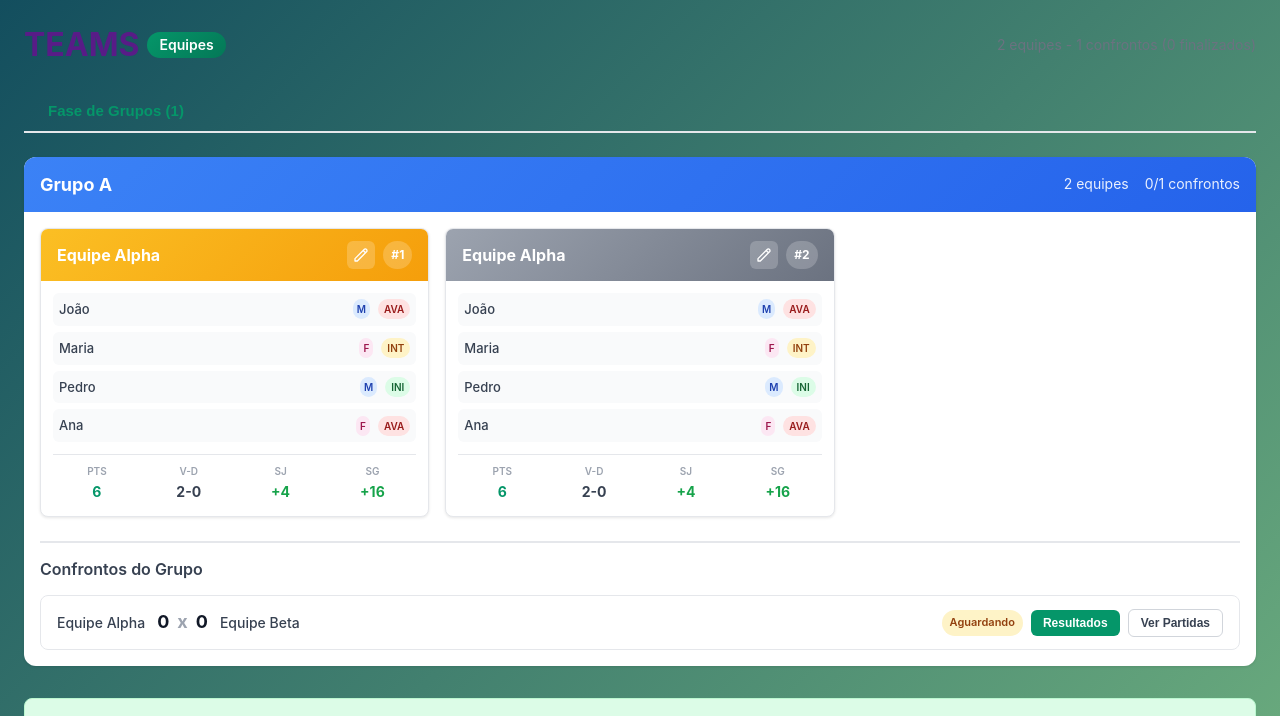
Test: ChavesTeams › definir jogadores › deve mostrar botão definir jogadores para partida sem duplas
Click the button "Ver Partidas" at (1175, 623), box [1128,609,1223,637]
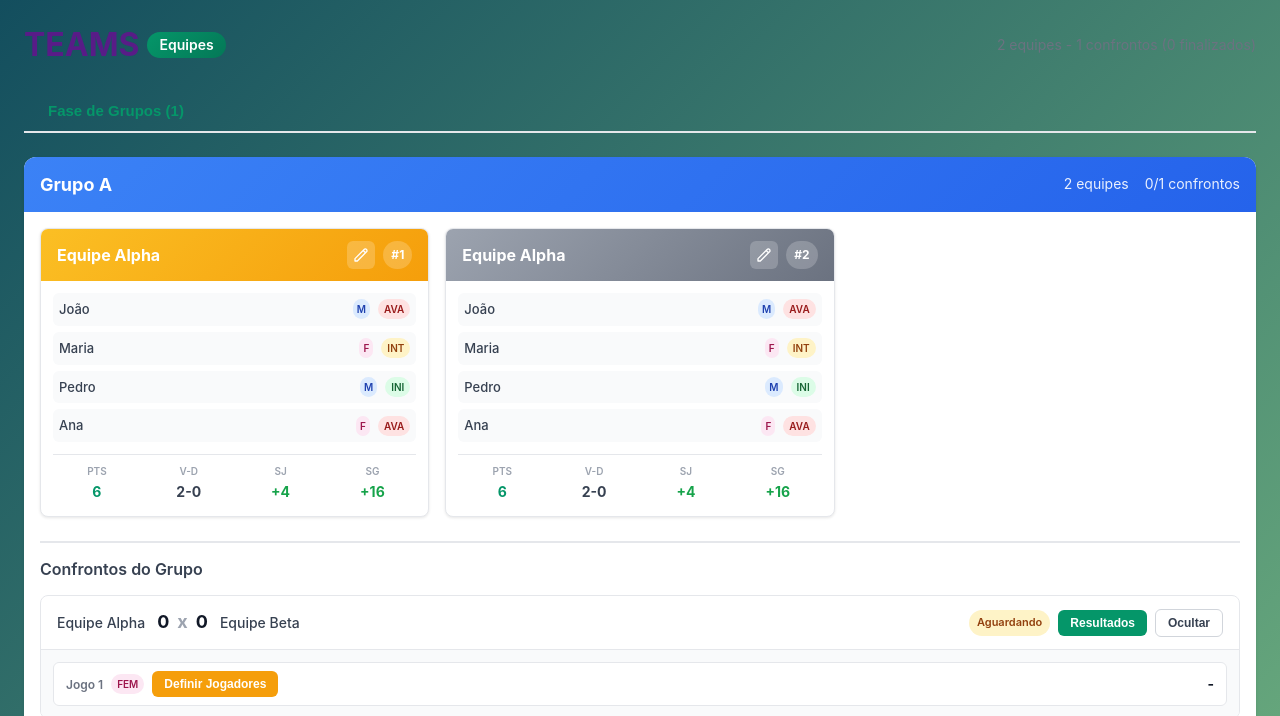
Now the button "Definir Jogadores" is shown, box [152,671,278,697]
